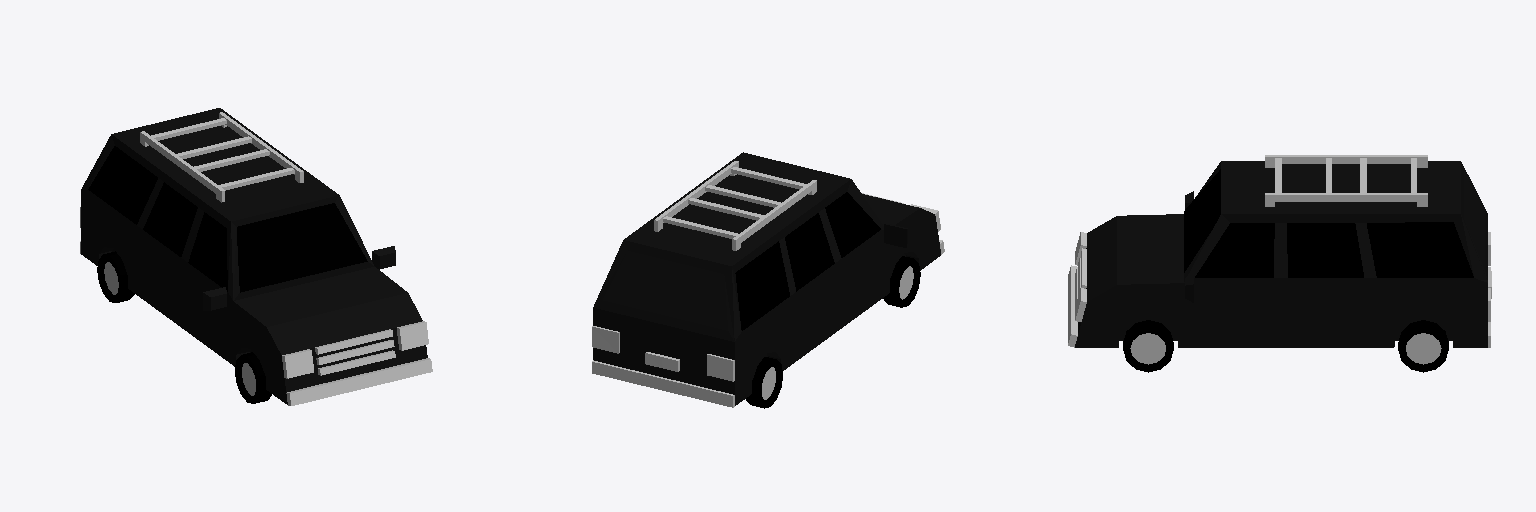
Rendered from car.2.obj.
3 renders of one model, left to right at view 1: azimuth 30°, elevation 25°; view 2: azimuth 150°, elevation 25°; view 3: azimuth 270°, elevation 25°, orthographic.
Parts seen in each view (by area): view 1: car3; view 2: car3; view 3: car3.
Part boxes in pixels (left/top/right/bottom): car3: left=80, top=108, right=432, bottom=405; car3: left=592, top=152, right=944, bottom=408; car3: left=1068, top=155, right=1491, bottom=372.
Bounding box in the file's own units: 1.99 × 1.59 × 3.81.